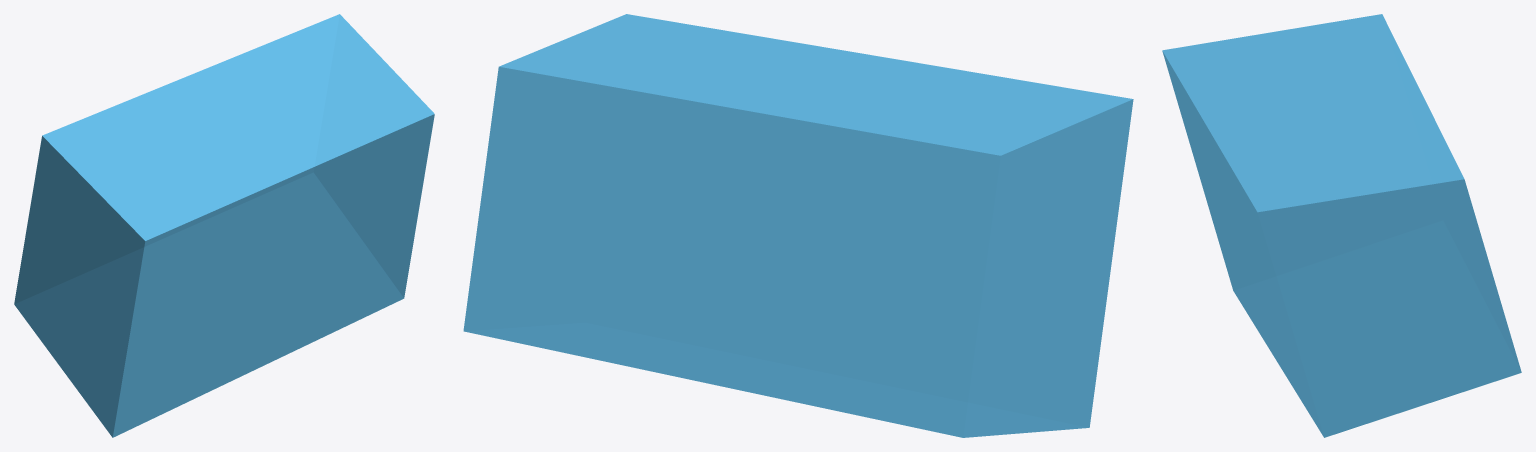
File: Event_420094457_HErechit_11.fbx
3 renders of one model, left to right at view 1: azimuth 30°, elevation 25°; view 2: azimuth 150°, elevation 25°; view 3: azimuth 270°, elevation 25°, orthographic. The views are drawn at different scales.
Parts seen in each view (by area): view 1: Model; view 2: Model; view 3: Model.
Part boxes in pixels (bbox=[...]): Model: bbox=[14, 14, 434, 437]; Model: bbox=[463, 14, 1133, 437]; Model: bbox=[1162, 14, 1521, 437].
Bounding box in the file's own units: 0.6706 × 0.506 × 0.5713.
